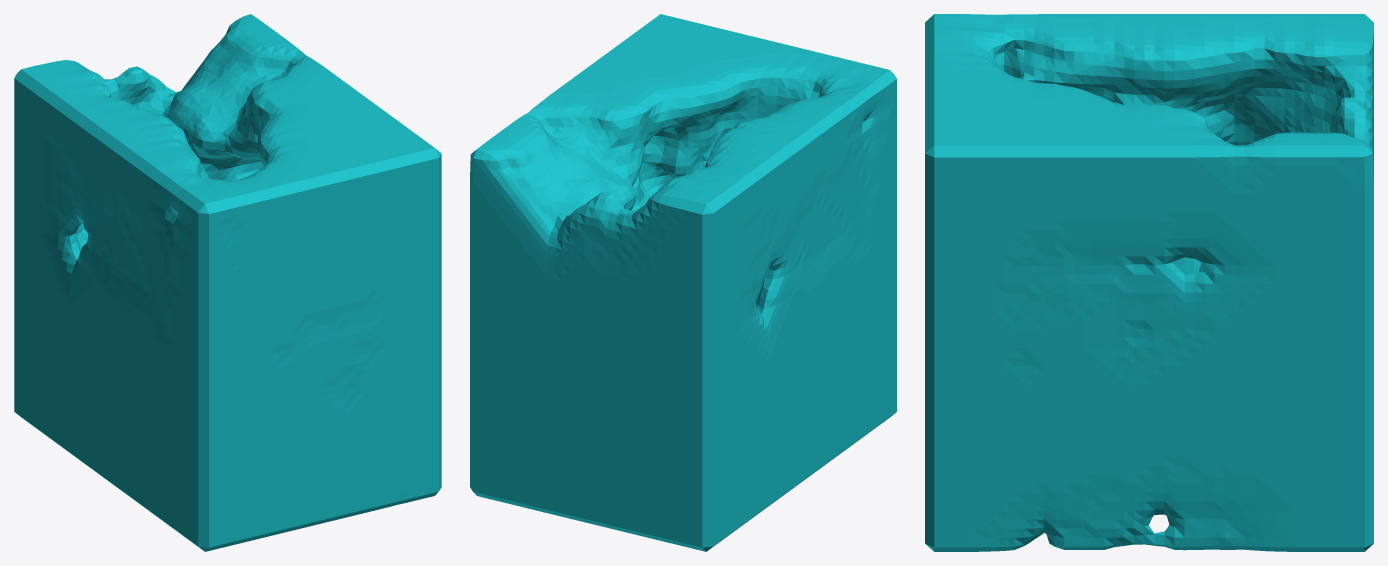
3 renders of one model, left to right at view 1: azimuth 30°, elevation 25°; view 2: azimuth 150°, elevation 25°; view 3: azimuth 270°, elevation 25°, orthographic. The views are drawn at different scales.
Parts seen in each view (by area): view 1: Liquid_Domain; view 2: Liquid_Domain; view 3: Liquid_Domain.
Boxes of the visible parts, box(x1,y1,x2,y2) form: Liquid_Domain: box(14, 14, 441, 551); Liquid_Domain: box(470, 14, 896, 551); Liquid_Domain: box(925, 14, 1373, 551).
Size of the model in its own units: 79.09 by 108 by 108.
